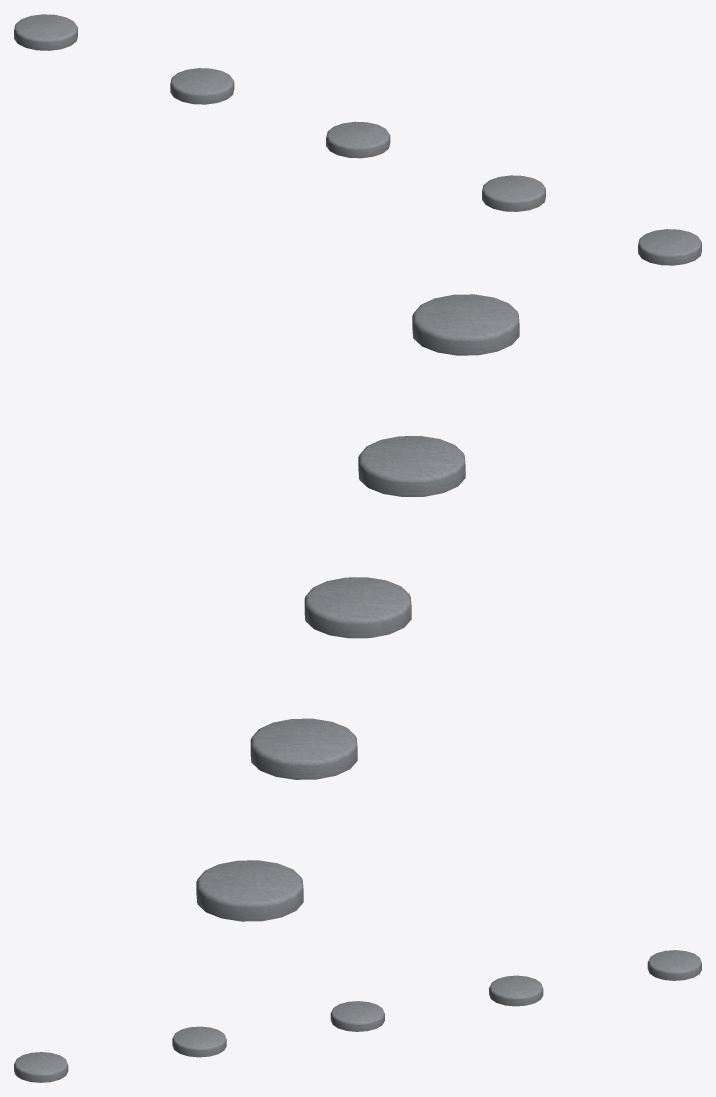
File: Metalintarsien001.FBX
The picture shows the model from 3 angles, top to bottom: view 1: azimuth 30°, elevation 25°; view 2: azimuth 150°, elevation 25°; view 3: azimuth 270°, elevation 25°; orthographic projection. The views are drawn at different scales.
Parts seen in each view (by area): view 1: Metalintarsien001; view 2: Metalintarsien001; view 3: Metalintarsien001.
Boxes of the visible parts, x1,y1,x2,y2 form: Metalintarsien001: (14, 14, 701, 265); Metalintarsien001: (196, 294, 519, 921); Metalintarsien001: (14, 950, 701, 1082).
Bounding box in the file's own units: 32.69 × 1.08 × 76.13.
Materials: 1 (1 with a texture image).
